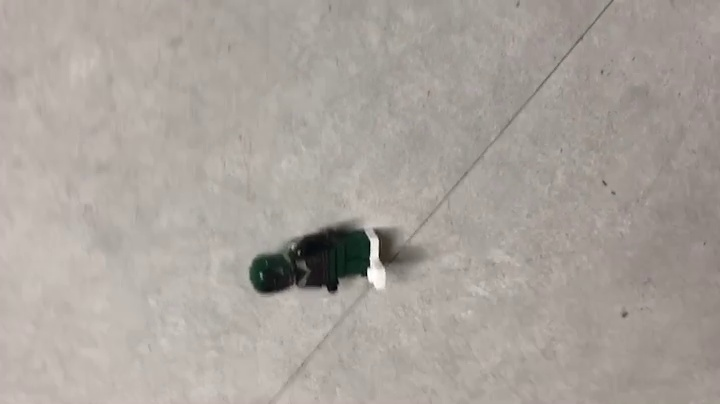people: (248, 225, 391, 300)
